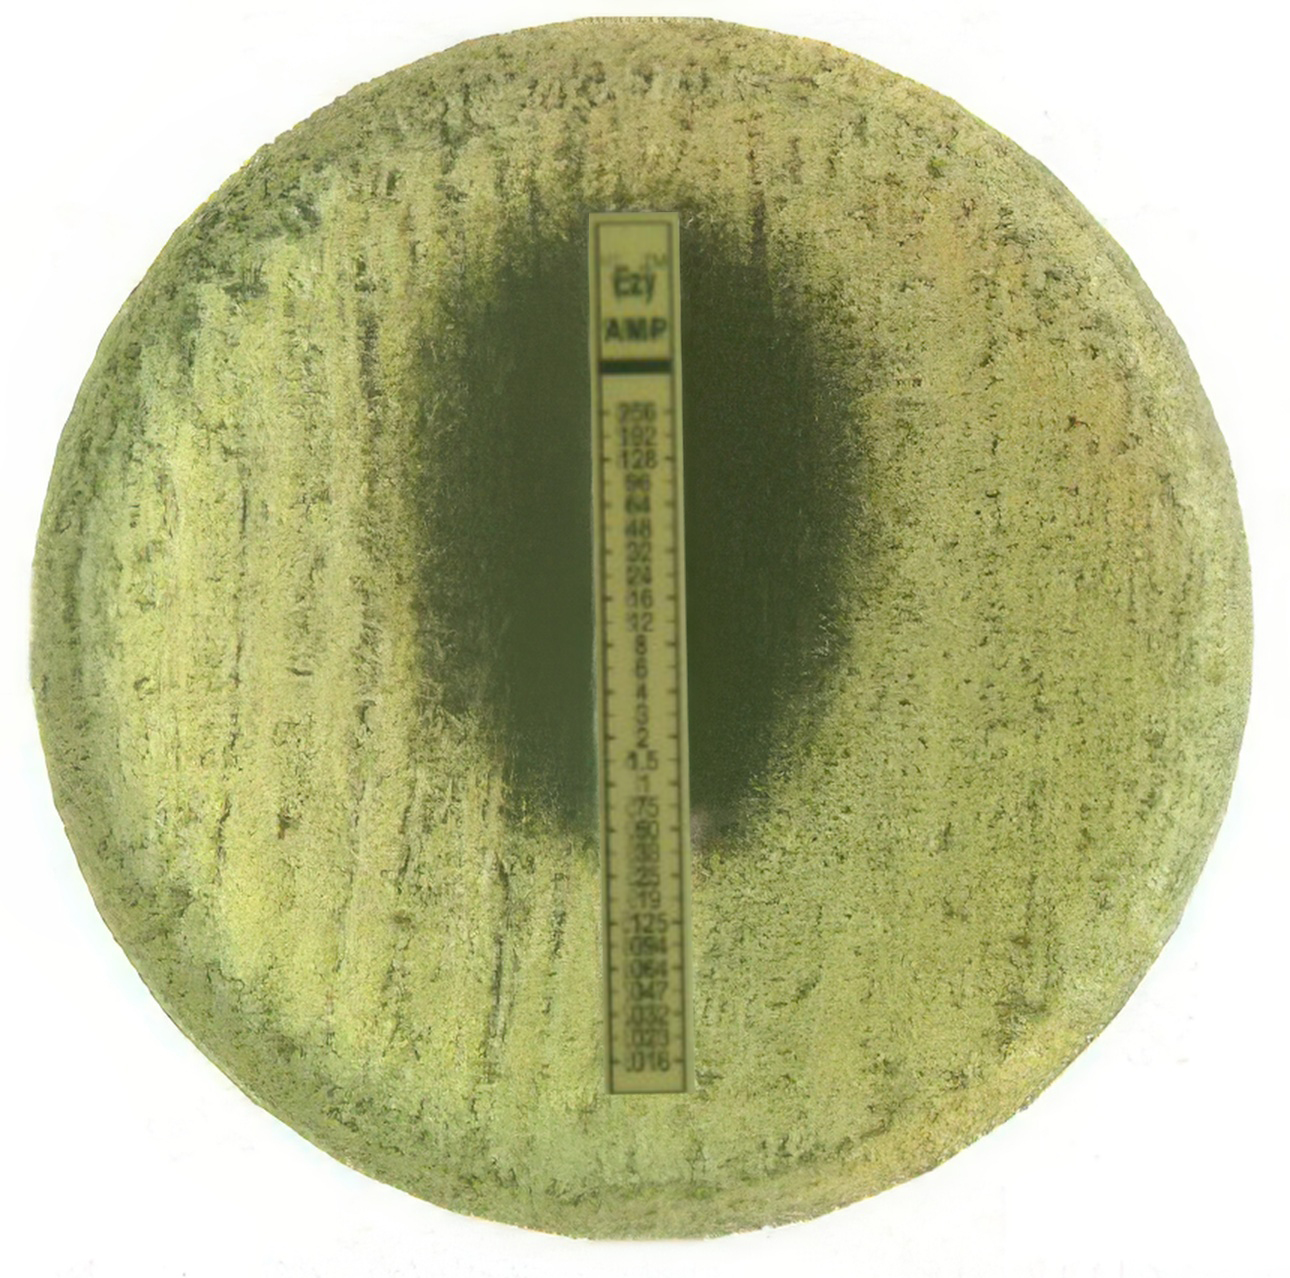line: (583, 208, 697, 1097)
zone: (433, 219, 853, 847)
